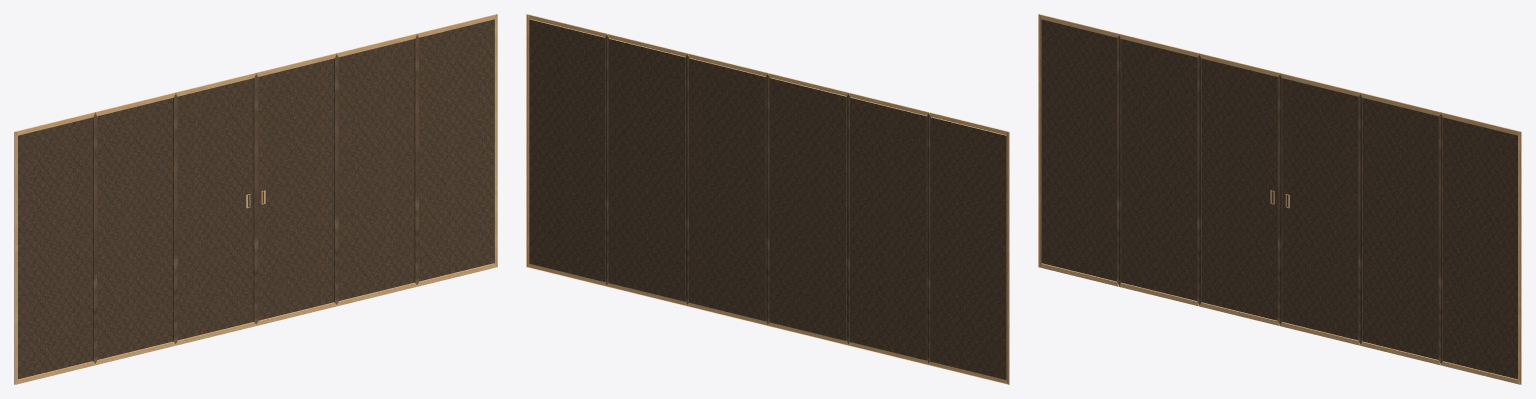
File: door.fbx
The picture shows the model from 3 angles, left to right: view 1: azimuth 30°, elevation 25°; view 2: azimuth 150°, elevation 25°; view 3: azimuth 330°, elevation 25°; orthographic projection.
Parts seen in each view (by area): view 1: bangunan_tengah.001; view 2: bangunan_tengah.001; view 3: bangunan_tengah.001.
Part boxes in pixels (left/top/right/bottom): bangunan_tengah.001: left=14, top=14, right=497, bottom=384; bangunan_tengah.001: left=526, top=14, right=1009, bottom=384; bangunan_tengah.001: left=1038, top=14, right=1521, bottom=384.
Size of the model in its own units: 600 by 300 by 1.77.
2 materials, 2 textured.
